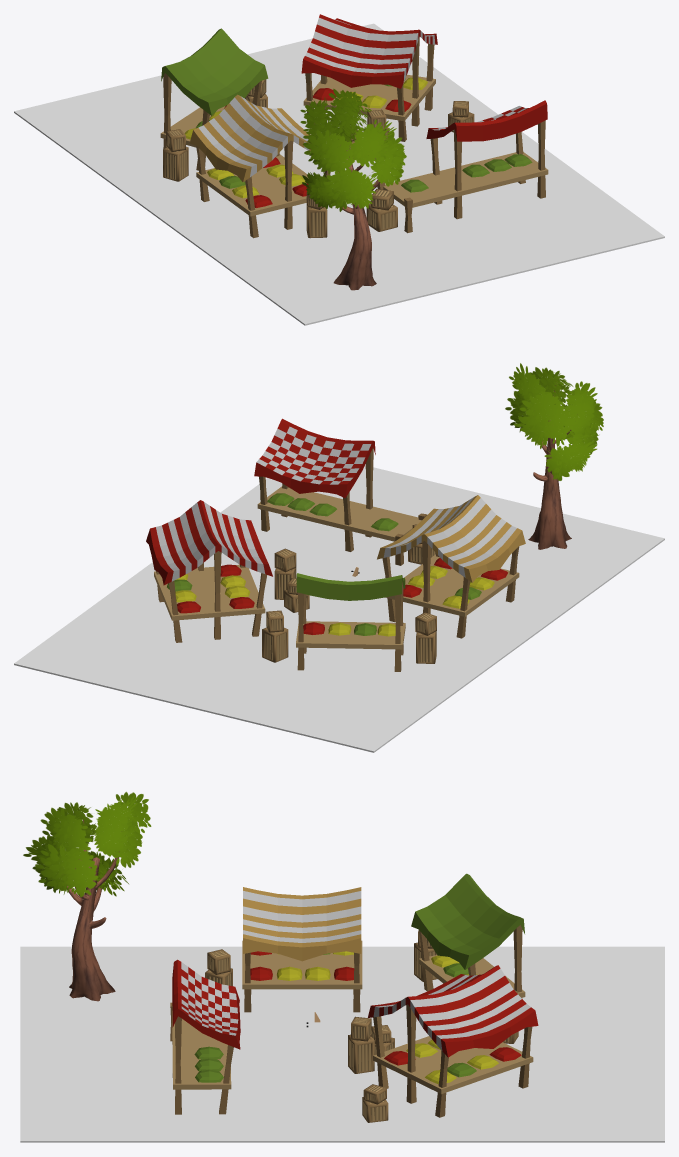
File: market.glb
The picture shows the model from 3 angles, top to bottom: view 1: azimuth 30°, elevation 25°; view 2: azimuth 150°, elevation 25°; view 3: azimuth 270°, elevation 25°; orthographic projection. The views are drawn at different scales.
Parts seen in each view (by area): view 1: Cube, Market_FirstAge_Level2, CommonTree_5; view 2: Cube, Market_FirstAge_Level2, CommonTree_5; view 3: Cube, Market_FirstAge_Level2, CommonTree_5.
Boxes of the visible parts, x1,y1,x2,y2 form: Cube: (14,23,664,325); Market_FirstAge_Level2: (160,14,548,238); CommonTree_5: (300,88,406,290); Cube: (14,465,664,752); Market_FirstAge_Level2: (146,418,525,671); CommonTree_5: (505,363,603,549); Cube: (20,946,664,1142); Market_FirstAge_Level2: (170,873,538,1122); CommonTree_5: (23,791,151,1001).
Bounding box in the file's own units: 50 × 25.04 × 70.69.
Materials: 11 (3 with a texture image).
